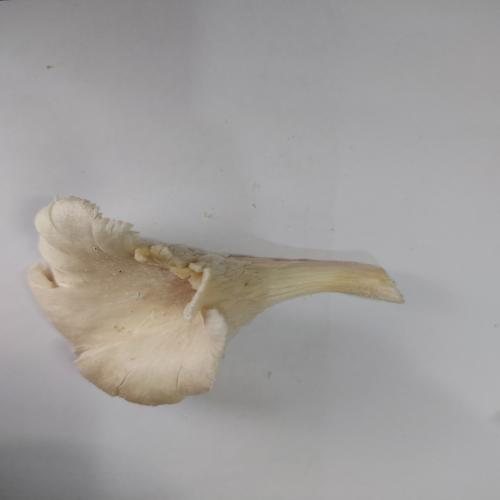Oyster Mushroom: (26, 193, 405, 407)
